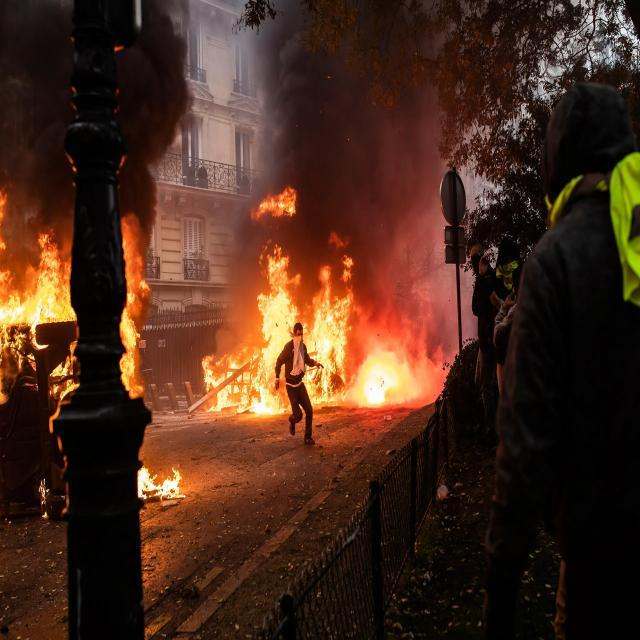Fire: (201, 230, 355, 412), (0, 232, 76, 396), (119, 214, 151, 399), (354, 341, 414, 408), (138, 464, 186, 501), (250, 183, 298, 220)
Smoke: (215, 0, 467, 404), (0, 1, 198, 289)
